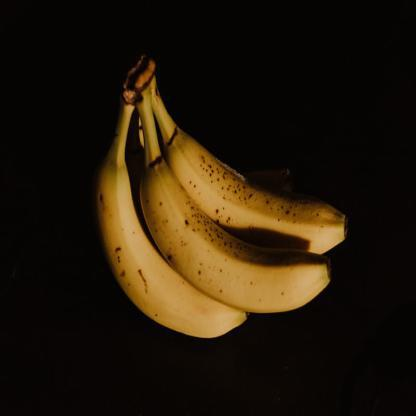banana: (86, 77, 363, 362)
